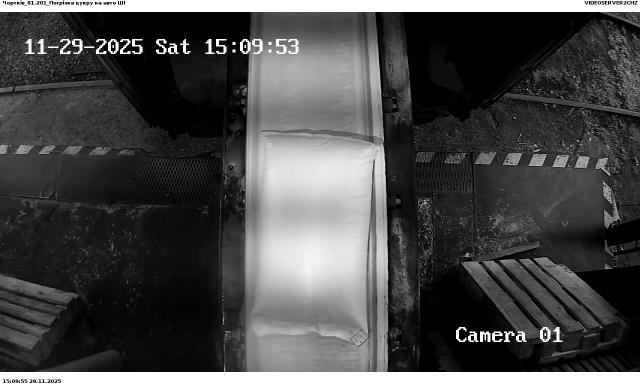bag: (251, 131, 378, 347)
